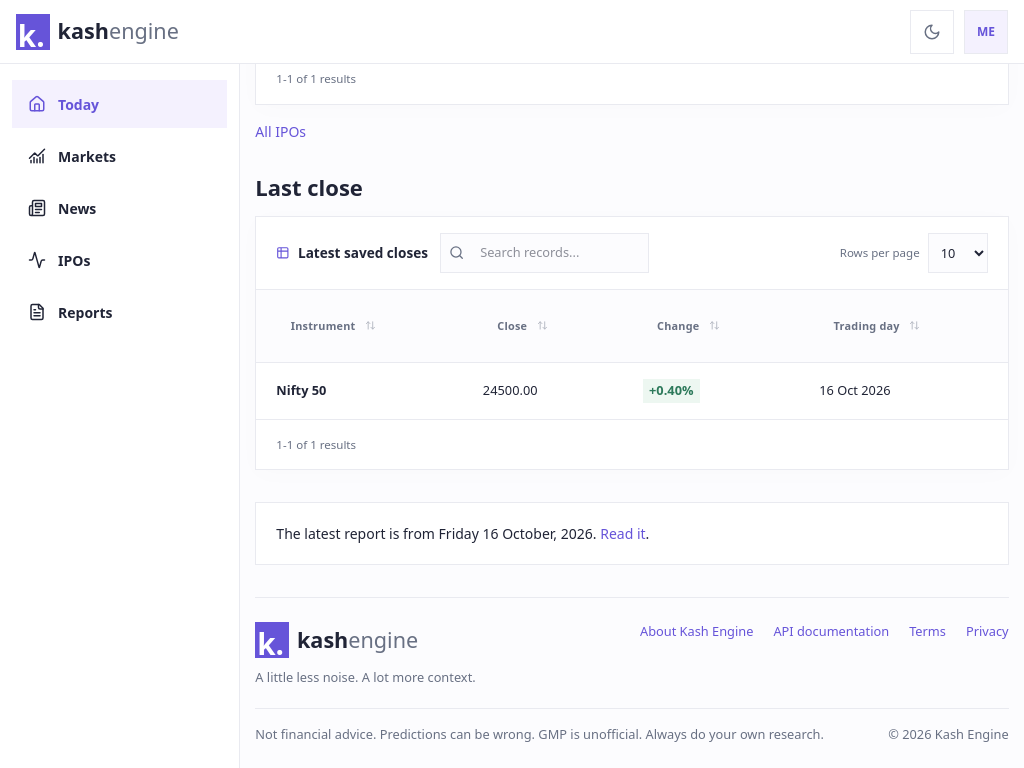
keeps the latest report link inside React
(page scrolled)
Step 1. Click the link "Read it" → (623,534), box [600, 524, 646, 543]
(page scrolled)
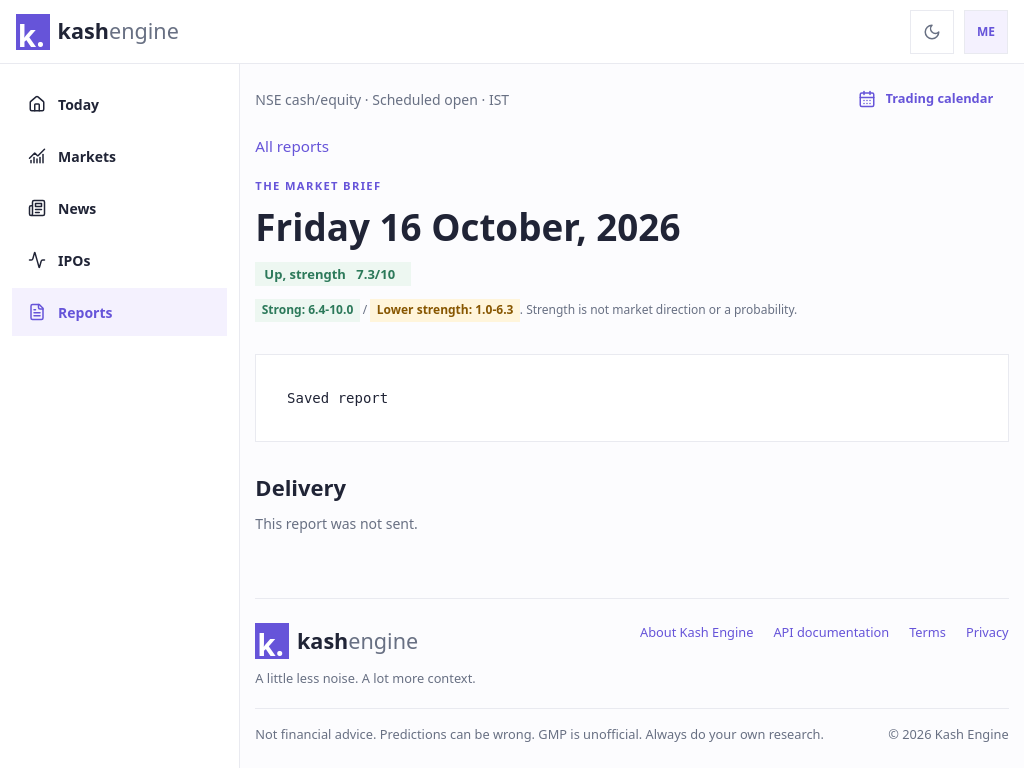
Now the text named "Report text" reads "Saved report", box [287, 390, 388, 406]
